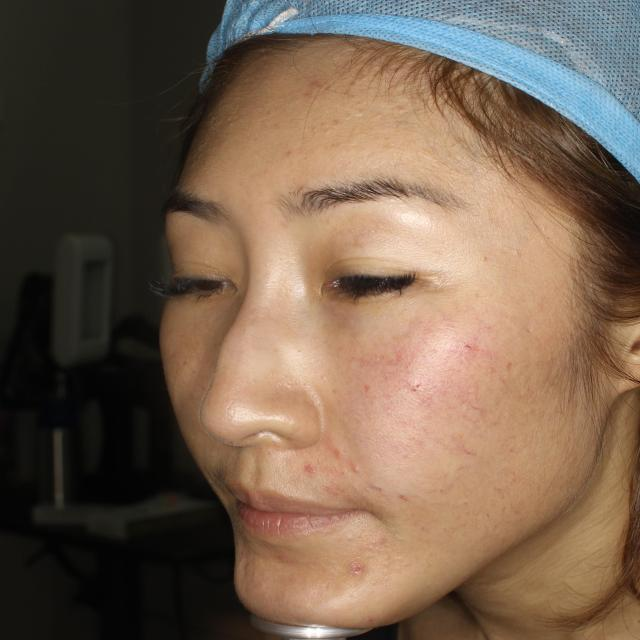acne: (349, 549, 377, 589), (281, 456, 319, 475), (317, 444, 343, 459)
